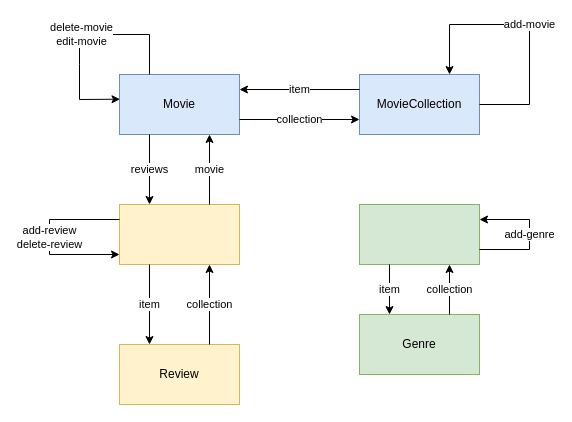
This 572x422 diagram has some shape labels left out. The centre of each missing label's shape, as x and y in pixels:
GenreCollection: (419,234)
ReviewCollection: (179,234)
